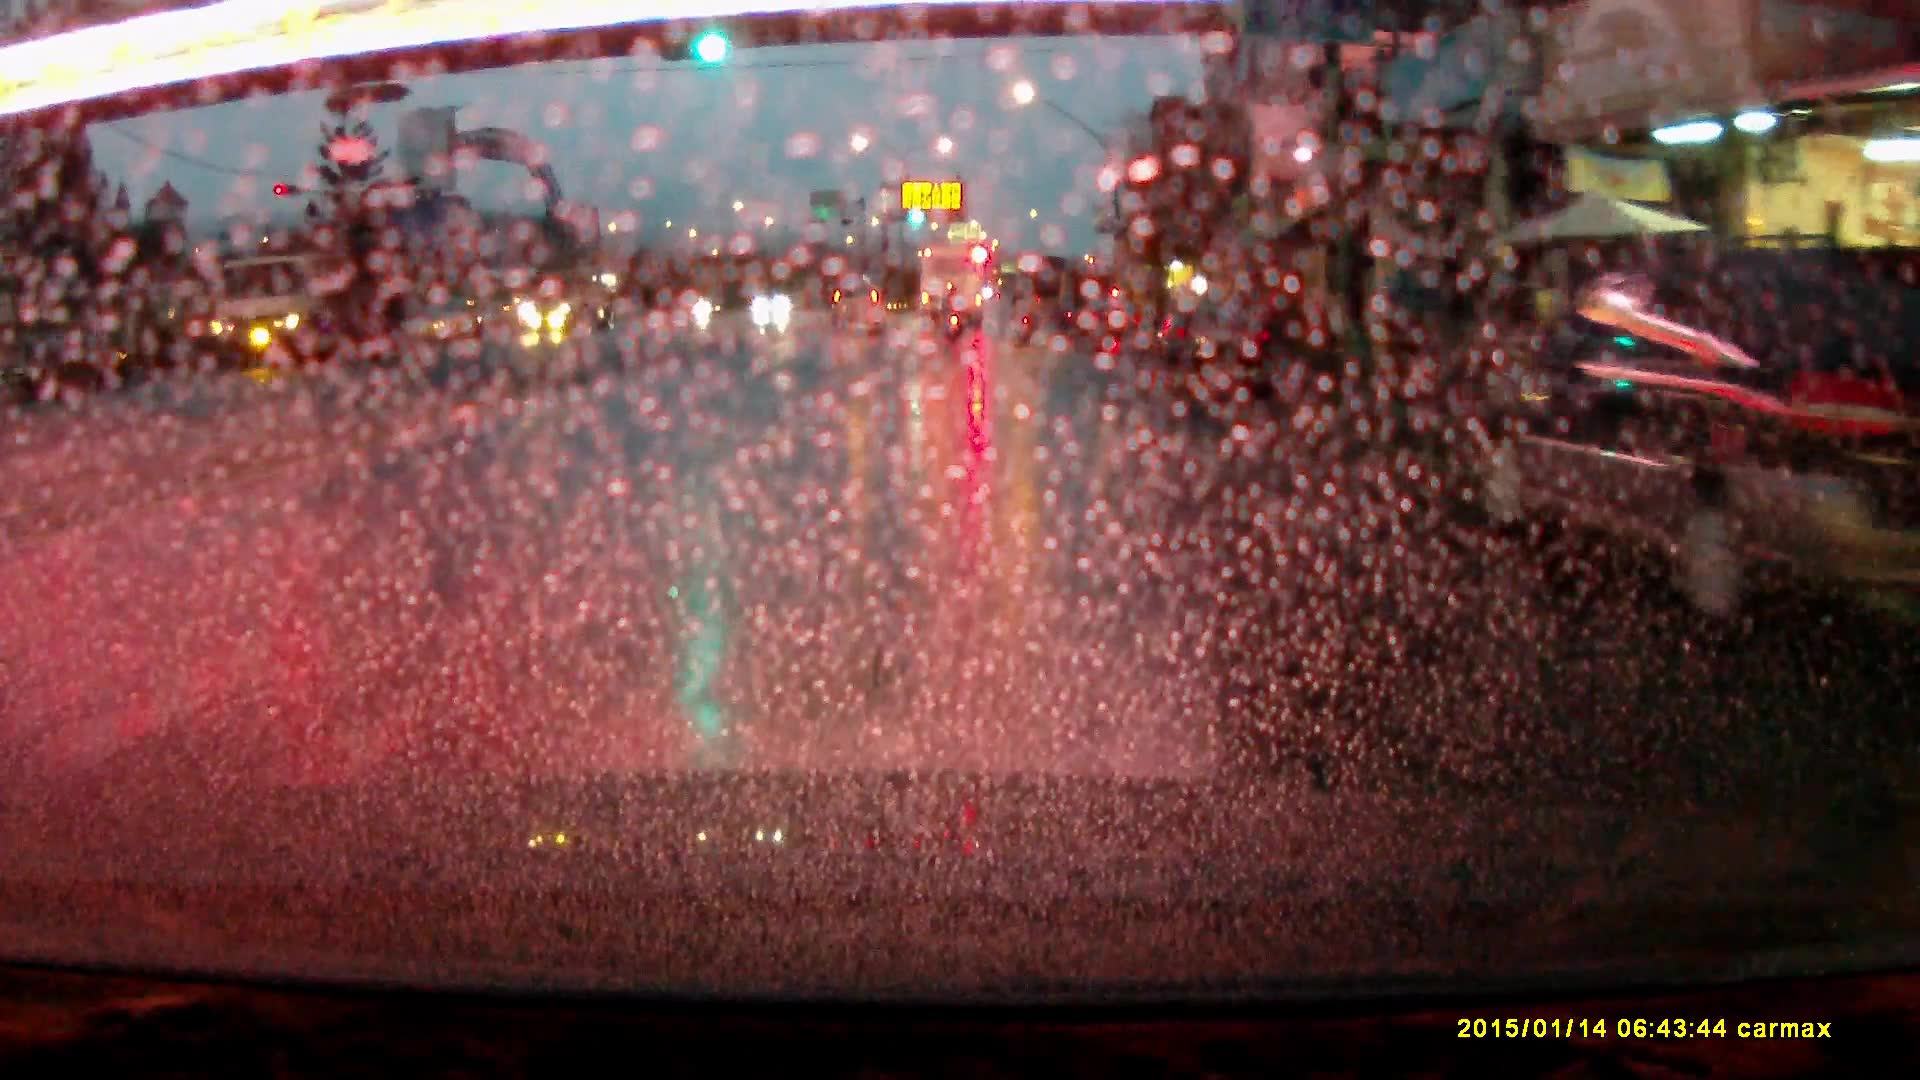rider: (944, 285, 967, 339)
vehicle: (1471, 244, 1906, 635), (203, 252, 393, 363), (1150, 308, 1269, 396), (523, 262, 613, 336), (920, 240, 985, 330), (1074, 298, 1141, 354), (829, 278, 885, 325)
